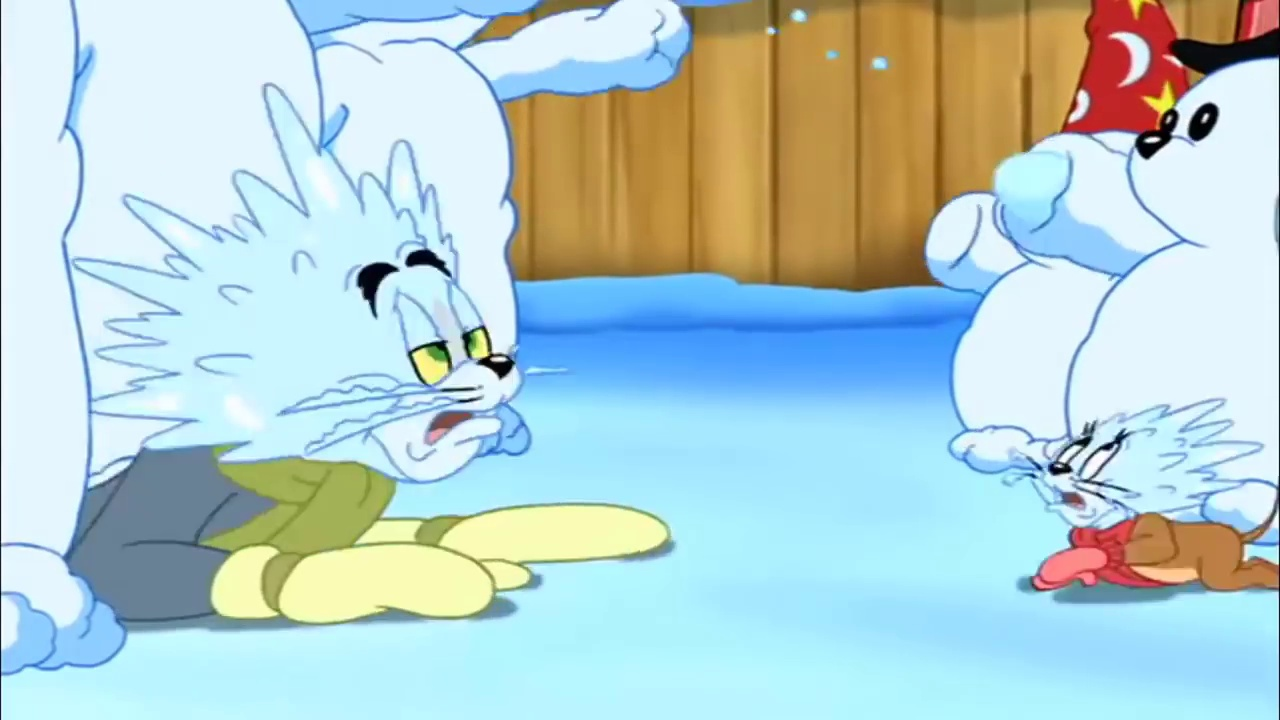face: (349, 249, 521, 481), (1036, 422, 1143, 532)
